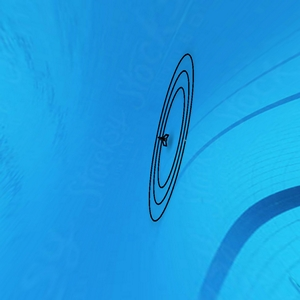circle: (148, 56, 200, 223)
submarine: (157, 136, 171, 145)
